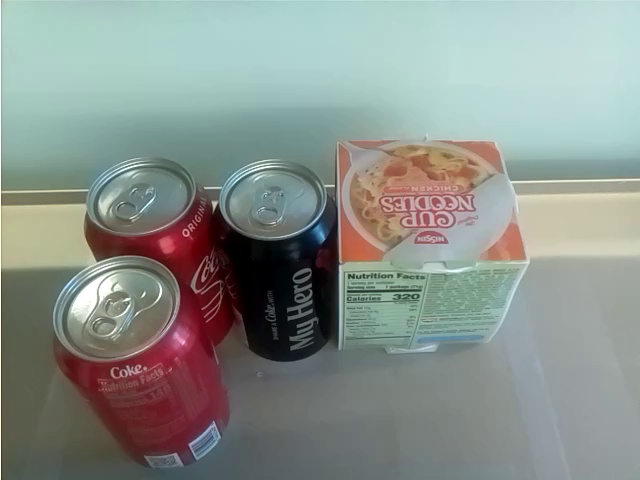cocacola: (50, 257, 230, 469)
cocacola-shadow: (79, 151, 213, 257)
cocacola-zero: (217, 156, 332, 364)
noodles: (338, 138, 529, 354)
